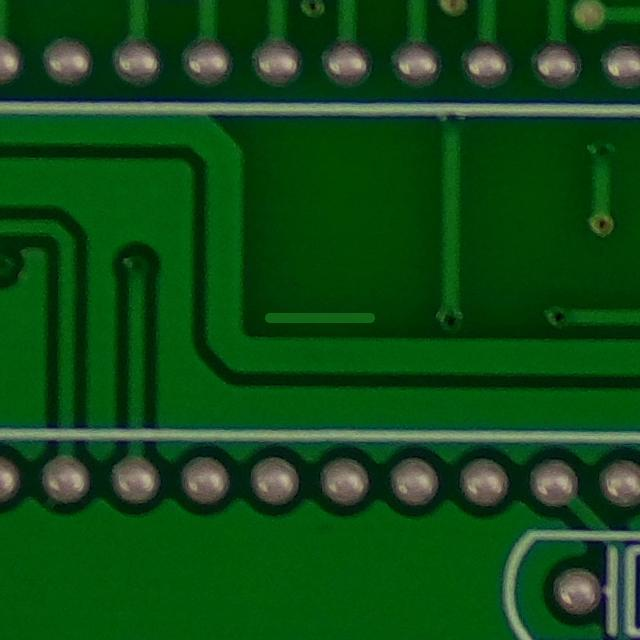spurious_copper: (257, 296, 384, 345)
